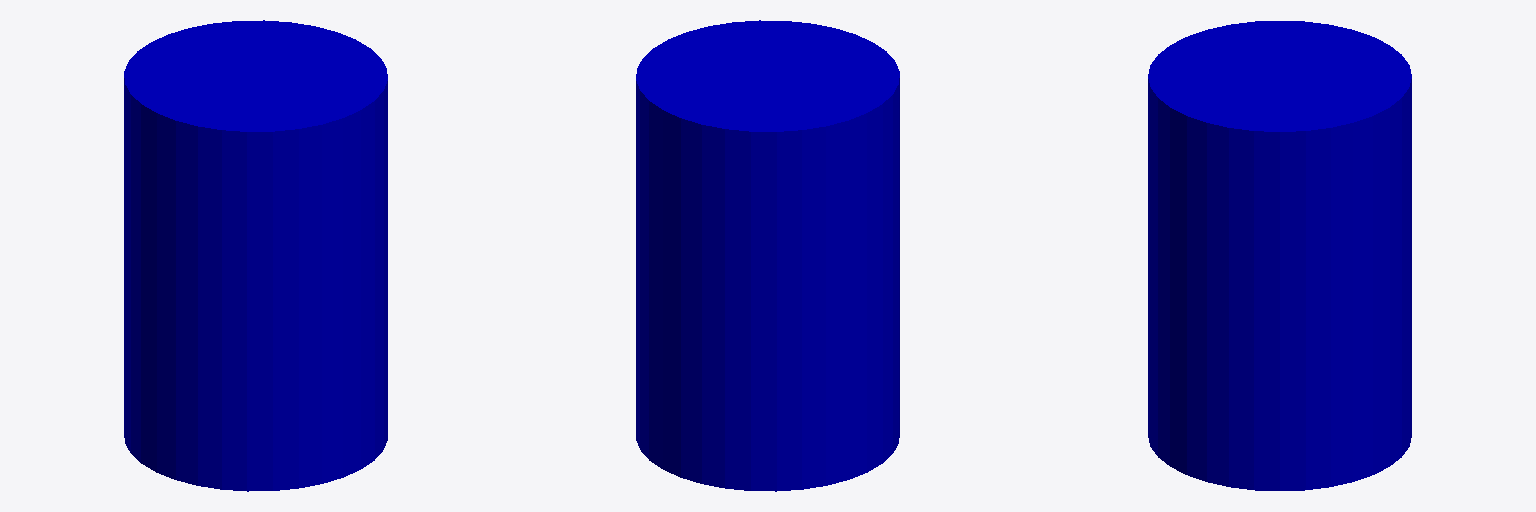
The robot description file, URDF, robot "materials":
<?xml version="1.0"?>
<robot name="materials">

  <material name="blue">
    <color rgba="0 0 0.8 1"/>
  </material>


  <link name="base_link">
    <visual>
      <geometry>
        <cylinder length="0.6" radius="0.2"/>
      </geometry>
      <origin rpy="0 0 0" xyz="0 0 0"/>
      <material name="blue"/>
    </visual>
  </link>



</robot>

--- What the picture shows (computed from the rendered views, not written in the file) ---
The picture shows the robot from 3 angles, left to right: view 1: azimuth 30°, elevation 25°; view 2: azimuth 150°, elevation 25°; view 3: azimuth 270°, elevation 25°; orthographic projection.
Model materials with 1 links and 0 joints (none), rooted at base_link, posed all joints at 0.
Visible links, largest first — view 1: base_link; view 2: base_link; view 3: base_link.
Boxes of the visible links, x1,y1,x2,y2 form: base_link: [124, 20, 387, 491]; base_link: [636, 20, 899, 491]; base_link: [1148, 21, 1411, 490].
Bounding box of the posed robot: 0.4 × 0.4 × 0.6 m (x, y, z).
Geometry: primitives only (box / cylinder / sphere), no mesh files.
